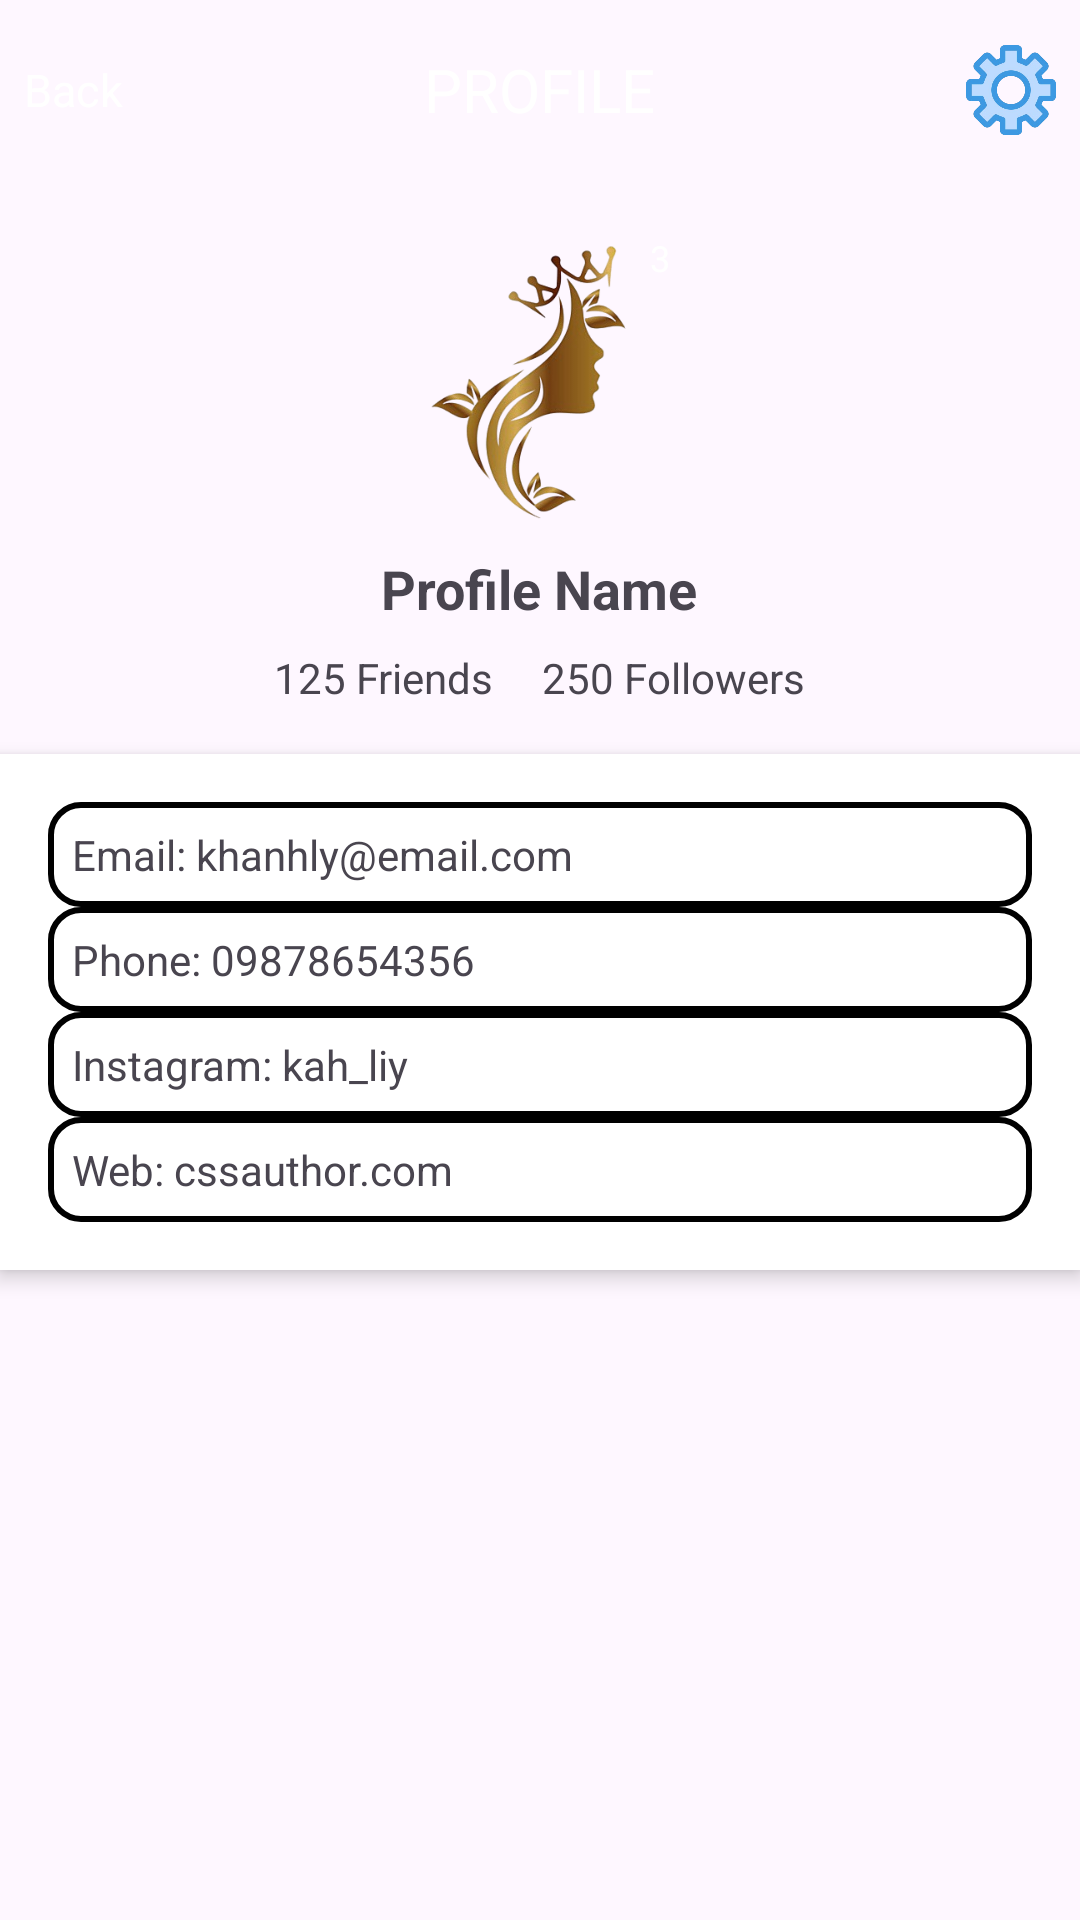

Named icons in this screenshot (1080w x 1920h) and their bounding boxes, (x1, y1, x2, y2):
setting: (966, 45, 1056, 135)
